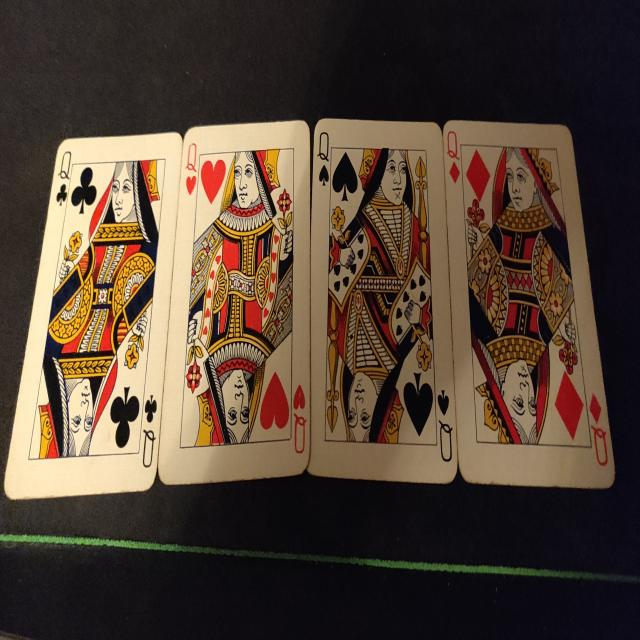Club: (110, 386, 140, 448), (71, 166, 97, 214), (145, 394, 157, 422), (56, 184, 68, 206)
Diamond: (554, 371, 584, 441), (466, 149, 491, 201), (589, 392, 602, 424), (449, 160, 460, 183)
Heart: (260, 372, 289, 429), (201, 160, 226, 204), (294, 384, 306, 410), (186, 176, 196, 196)
Queen: (591, 425, 608, 466), (438, 420, 452, 462), (294, 412, 307, 454), (143, 429, 156, 468), (58, 151, 72, 179), (447, 131, 460, 160), (317, 132, 329, 162), (185, 143, 197, 172)
Spade: (404, 372, 434, 438), (332, 152, 358, 202), (438, 389, 450, 416), (319, 164, 329, 187)
